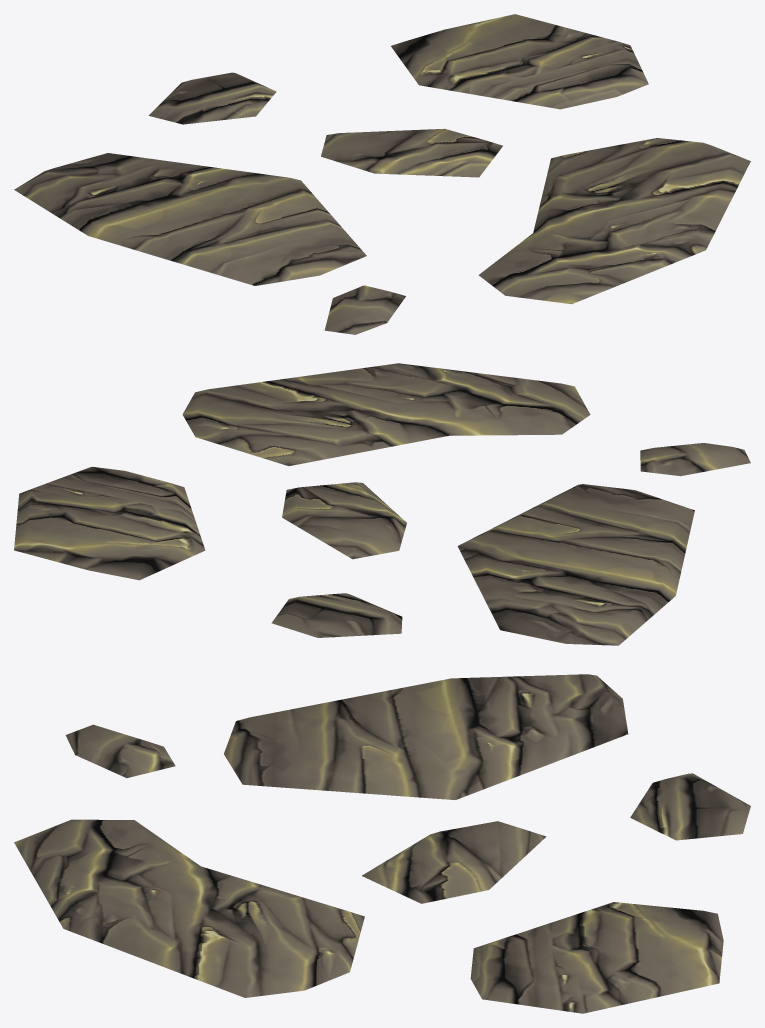
File: Prop_RockGround_01.FBX
The picture shows the model from 3 angles, top to bottom: view 1: azimuth 30°, elevation 25°; view 2: azimuth 150°, elevation 25°; view 3: azimuth 270°, elevation 25°; orthographic projection. The views are drawn at different scales.
Parts seen in each view (by area): view 1: Prop_RockGround_01; view 2: Prop_RockGround_01; view 3: Prop_RockGround_01.
Part boxes in pixels (x1,y1,x2,y2): Prop_RockGround_01: (14,14,750,334); Prop_RockGround_01: (14,363,750,645); Prop_RockGround_01: (14,674,750,1013).
Bounding box in the file's own units: 4.47 × 0.05 × 4.12.
